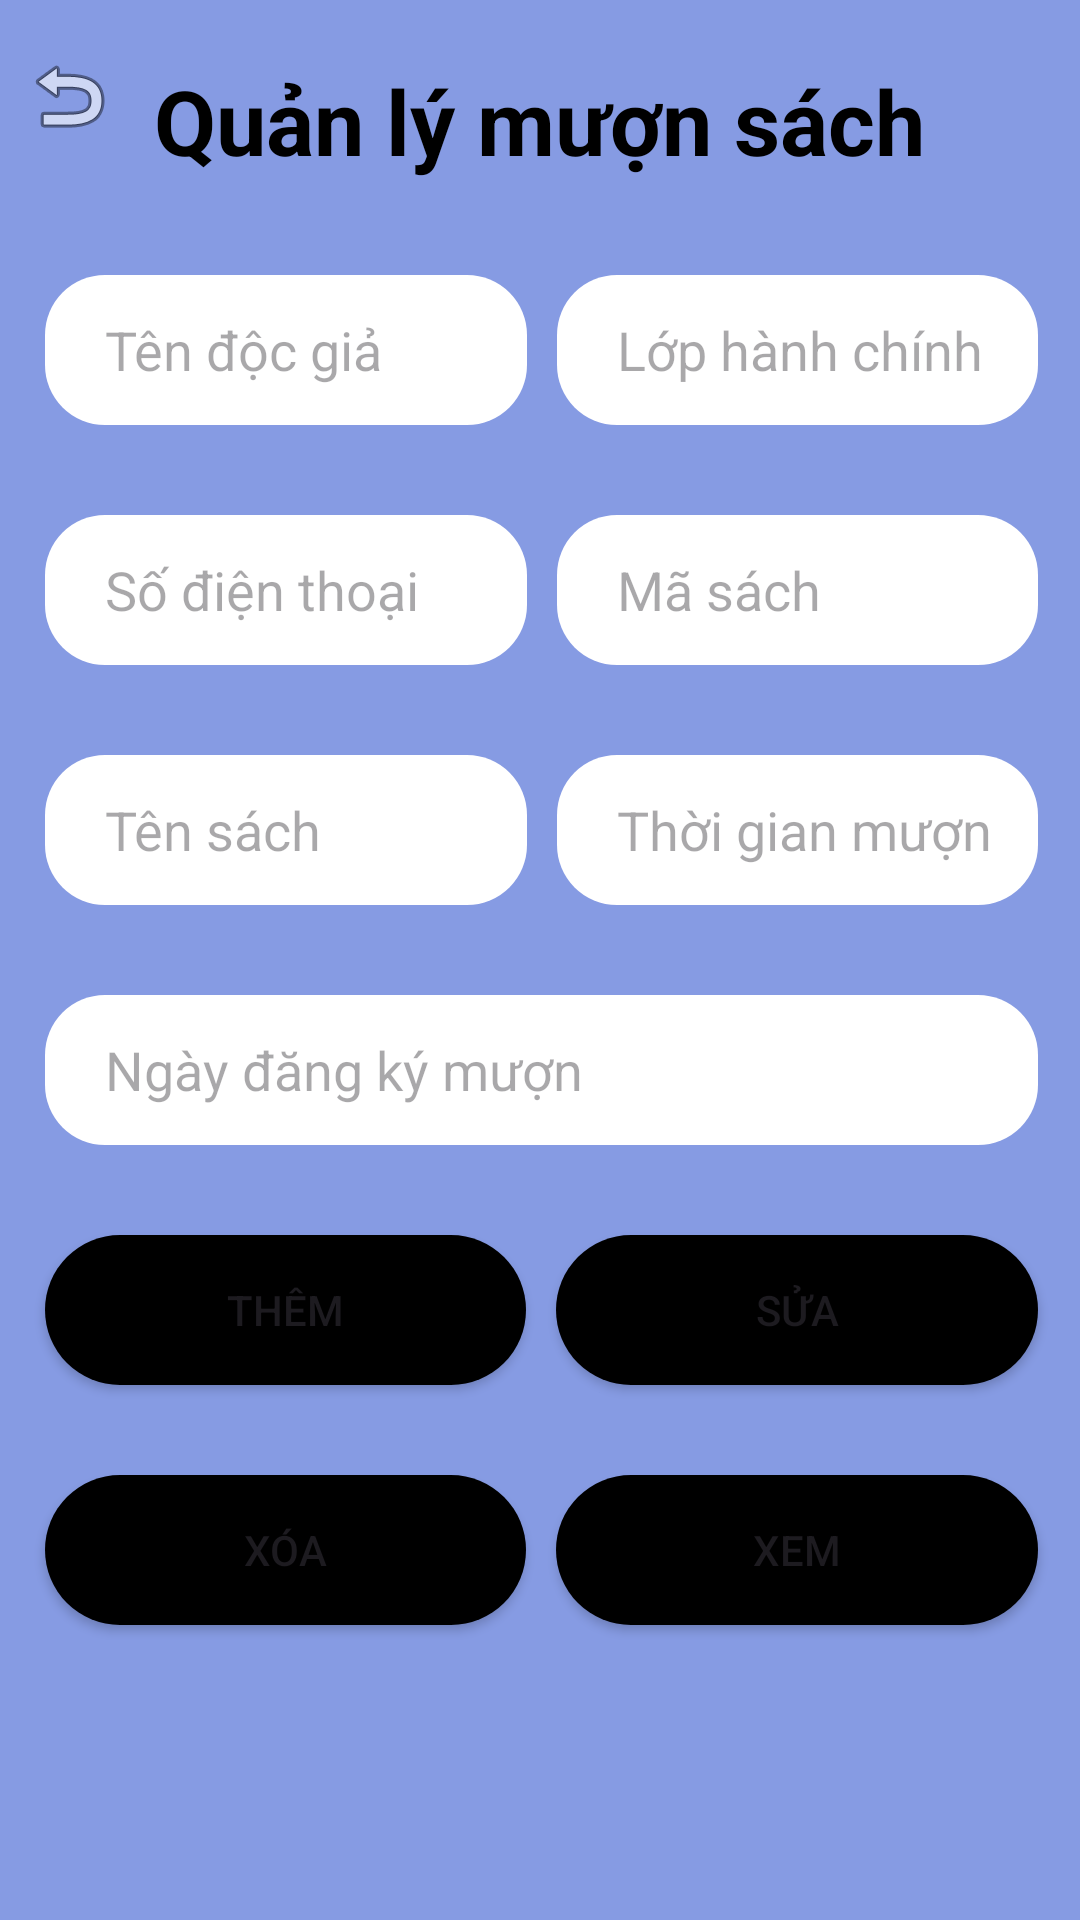

Icons on this 1080px x 1920px Android screen, each with the point to tap as (x=x, y=y):
revert: (x=70, y=96)
